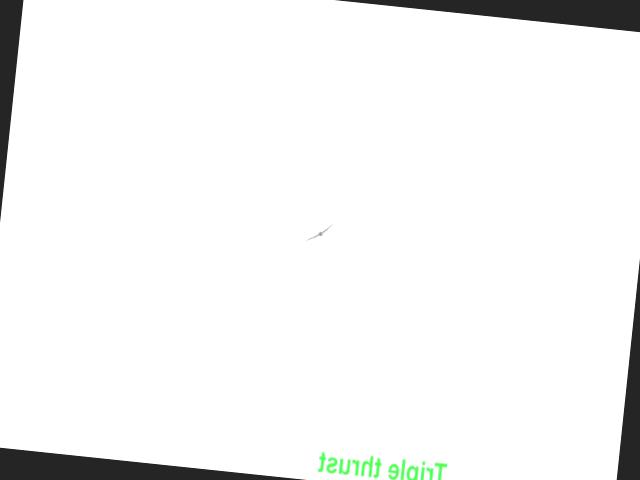plane: (306, 220, 332, 242)
